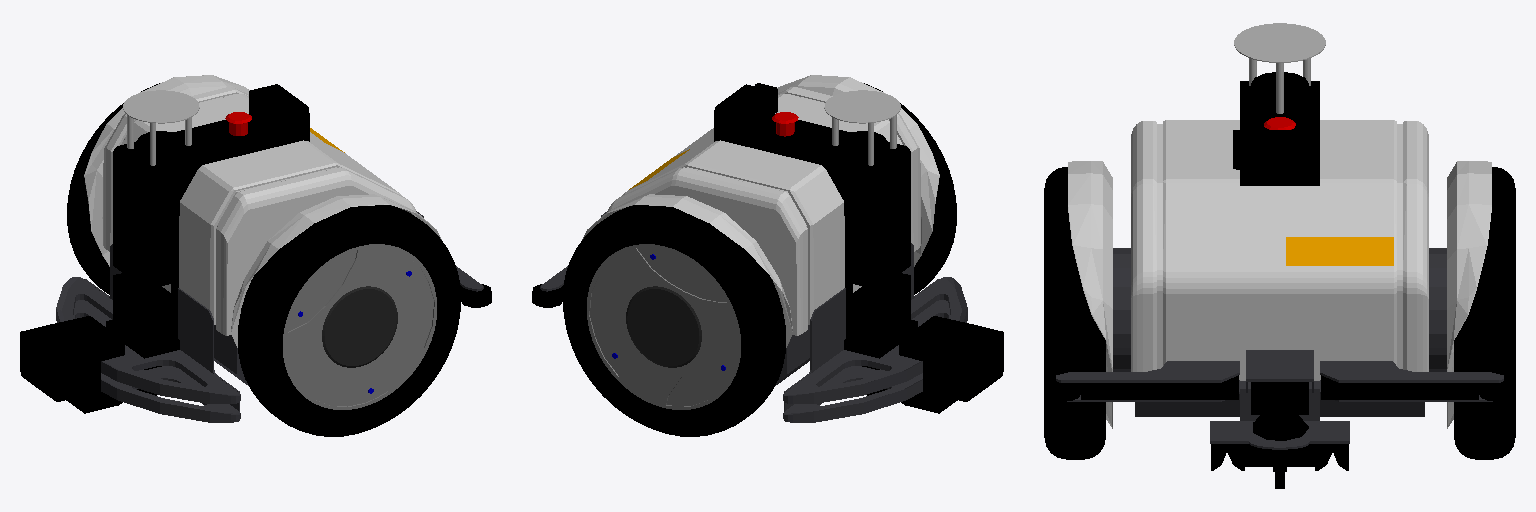
The robot description file, URDF, robot "tugbot":
<?xml version="1.0"?>
<robot name="tugbot">
  <link name="base_link">
    <visual>
      <origin xyz="0 0 0" rpy="0 -0 0"/>
      <geometry><mesh filename="../meshes/base/tugbot_simp.dae"/></geometry>
    </visual>
    <visual>
      <origin xyz="0 0 0" rpy="0 -0 0"/>
      <geometry><mesh filename="../meshes/base/movai_logo.dae"/></geometry>
    </visual>
    <visual>
      <origin xyz="-0.1 0 0.1945" rpy="0 1.57045 0"/>
      <geometry><mesh filename="../meshes/light_link/light_led.stl"/></geometry>
    </visual>
    <visual>
      <origin xyz="-0.099 0 0.195" rpy="0 1.57045 0"/>
      <geometry><mesh filename="../meshes/light_link/light.stl" scale="1.02 1.02 1.02"/></geometry>
    </visual>
  </link>
  <link name="imu_link">
  </link>
  <link name="warnign_light">
  </link>
  <link name="camera_front">
  </link>
  <link name="camera_back">
  </link>
  <link name="scan_front">
  </link>
  <link name="scan_back">
  </link>
  <link name="scan_omni">
    <visual>
      <origin xyz="0 0 -0.035" rpy="0 -0 0"/>
      <geometry><cylinder radius="0.06" length="0.0015"/></geometry>
    </visual>
    <visual>
      <origin xyz="-0.035 0.035 -0.08" rpy="0 -0 0"/>
      <geometry><cylinder radius="0.005" length="0.09"/></geometry>
    </visual>
    <visual>
      <origin xyz="-0.035 -0.035 -0.08" rpy="0 -0 0"/>
      <geometry><cylinder radius="0.005" length="0.09"/></geometry>
    </visual>
    <visual>
      <origin xyz="0.0495 0 -0.08" rpy="0 -0 0"/>
      <geometry><cylinder radius="0.005" length="0.09"/></geometry>
    </visual>
    <visual>
      <origin xyz="0 0 -0.035" rpy="0 -0 0"/>
      <geometry><mesh filename="../meshes/VLP16_base_1.dae"/></geometry>
    </visual>
    <visual>
      <origin xyz="0 0 -0.035" rpy="0 -0 0"/>
      <geometry><mesh filename="../meshes/VLP16_base_2.dae"/></geometry>
    </visual>
    <visual>
      <origin xyz="0 0 -0.035" rpy="0 -0 0"/>
      <geometry><mesh filename="../meshes/VLP16_scan.dae"/></geometry>
    </visual>
  </link>
  <link name="gripper">
    <visual>
      <origin xyz="0 0 0" rpy="-1.5708 0 0"/>
      <geometry><mesh filename="../meshes/gripper2/gripper2.dae"/></geometry>
    </visual>
  </link>
  <link name="gripper_hand">
    <visual>
      <origin xyz="0 0 0" rpy="1.5708 -0 1.5708"/>
      <geometry><mesh filename="../meshes/gripper2/gripper_hand.stl" scale="0.001 0.001 0.001"/></geometry>
    </visual>
  </link>
  <link name="wheel_front">
  </link>
  <link name="wheel_back">
  </link>
  <link name="wheel_left">
    <visual>
      <origin xyz="0 0 -0.03" rpy="0 -0 0"/>
      <geometry><mesh filename="../meshes/wheel/wheel.dae" scale="0.98 0.98 1"/></geometry>
    </visual>
  </link>
  <link name="wheel_right">
    <visual>
      <origin xyz="0 0 -0.03" rpy="0 -0 0"/>
      <geometry><mesh filename="../meshes/wheel/wheel.dae" scale="0.98 0.98 1"/></geometry>
    </visual>
  </link>
  <joint name="imu_link_joint" type="fixed">
    <parent link="base_link"/>
    <child link="imu_link"/>
    <origin xyz="0.14 0.02 0.25" rpy="0 0 -1.57"/>
  </joint>
  <joint name="warnign_light_joint" type="continuous">
    <parent link="base_link"/>
    <child link="warnign_light"/>
    <origin xyz="-0.185 0 0.46" rpy="0 -0 0"/>
    <axis xyz="0 0 1"/>
    <limit effort="100" velocity="100"/>
  </joint>
  <joint name="camera_front_joint" type="fixed">
    <parent link="base_link"/>
    <child link="camera_front"/>
    <origin xyz="0.0553 0 0.4323" rpy="0 -0 0"/>
  </joint>
  <joint name="camera_back_joint" type="fixed">
    <parent link="base_link"/>
    <child link="camera_back"/>
    <origin xyz="-0.241 0 0.2303" rpy="0 -0 -3.14159"/>
  </joint>
  <joint name="scan_front_joint" type="fixed">
    <parent link="base_link"/>
    <child link="scan_front"/>
    <origin xyz="0.221 0 0.1404" rpy="0 -0 0"/>
  </joint>
  <joint name="scan_back_joint" type="fixed">
    <parent link="base_link"/>
    <child link="scan_back"/>
    <origin xyz="-0.2075 0 0.205" rpy="0 -0 -3.14159"/>
  </joint>
  <joint name="scan_omni_joint" type="fixed">
    <parent link="base_link"/>
    <child link="scan_omni"/>
    <origin xyz="-0.1855 0 0.5318" rpy="0 -0 0"/>
  </joint>
  <joint name="gripper_joint" type="revolute">
    <parent link="base_link"/>
    <child link="gripper"/>
    <origin xyz="-0.35 0 0.1" rpy="0 -0 0"/>
    <axis xyz="0 0 1"/>
    <limit lower="-0.7" upper="0.7" effort="100" velocity="100"/>
  </joint>
  <joint name="gripper_hand_joint" type="revolute">
    <parent link="gripper"/>
    <child link="gripper_hand"/>
    <origin xyz="-0.113 0 0" rpy="0 -0 0"/>
    <axis xyz="0 1 0"/>
    <limit lower="-0.35" upper="0.1" effort="100" velocity="100"/>
  </joint>
  <joint name="wheel_front_joint" type="fixed">
    <parent link="base_link"/>
    <child link="wheel_front"/>
    <origin xyz="0.145 0 0.0345" rpy="1.5708 -0 0"/>
  </joint>
  <joint name="wheel_back_joint" type="fixed">
    <parent link="base_link"/>
    <child link="wheel_back"/>
    <origin xyz="-0.225 0 0.035" rpy="1.5708 -0 0"/>
  </joint>
  <joint name="wheel_left_joint" type="continuous">
    <parent link="base_link"/>
    <child link="wheel_left"/>
    <origin xyz="0 0.257 0.195" rpy="-1.5708 0 0"/>
    <axis xyz="0 0 1"/>
    <limit effort="100" velocity="100"/>
  </joint>
  <joint name="wheel_right_joint" type="continuous">
    <parent link="base_link"/>
    <child link="wheel_right"/>
    <origin xyz="0 -0.257 0.195" rpy="1.5708 -0 0"/>
    <axis xyz="0 0 -1"/>
    <limit effort="100" velocity="100"/>
  </joint>
</robot>

--- Facts derived from the render (not from the file) ---
The picture shows the robot from 3 angles, left to right: view 1: azimuth 30°, elevation 25°; view 2: azimuth 150°, elevation 25°; view 3: azimuth 270°, elevation 25°; orthographic projection.
Model tugbot with 14 links and 13 joints (2 revolute, 3 continuous, 8 fixed), rooted at base_link, posed all joints at 0.
Visible links, largest first — view 1: base_link, wheel_right, gripper, wheel_left, scan_omni; view 2: base_link, wheel_left, gripper, wheel_right, scan_omni; view 3: base_link, wheel_left, wheel_right, scan_omni.
Boxes of the visible links, bbox=[...] form: base_link: bbox=[56, 75, 491, 422]; wheel_right: bbox=[238, 205, 460, 436]; gripper: bbox=[20, 316, 124, 413]; wheel_left: bbox=[67, 83, 159, 294]; scan_omni: bbox=[123, 90, 199, 165]; base_link: bbox=[532, 75, 967, 422]; wheel_left: bbox=[563, 205, 785, 436]; gripper: bbox=[899, 316, 1003, 413]; wheel_right: bbox=[864, 83, 956, 294]; scan_omni: bbox=[824, 90, 900, 165]; base_link: bbox=[1045, 72, 1514, 488]; wheel_left: bbox=[1454, 167, 1515, 459]; wheel_right: bbox=[1044, 167, 1105, 459]; scan_omni: bbox=[1234, 23, 1325, 113].
Size in the robot's own frame: 0.6874 by 0.614 by 0.4969 metres.
5 mesh visuals loaded from 10 distinct referenced files (4 Collada DAE); not drawn: 6 (reference not matched to a file when rendering).
